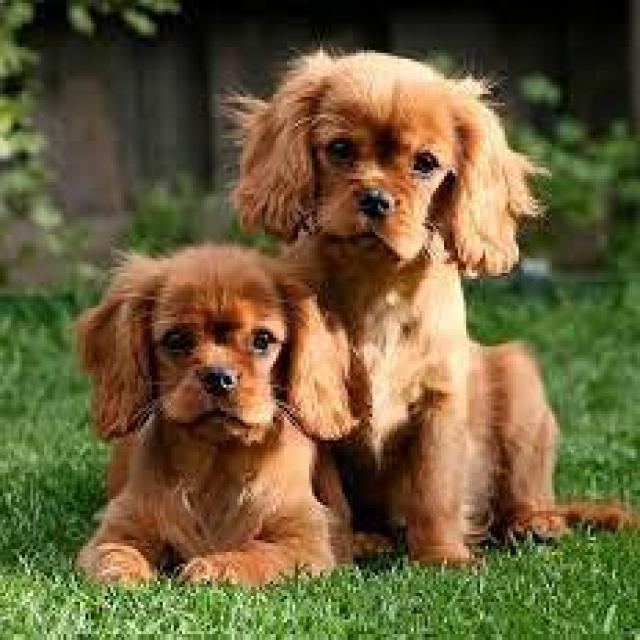Dog: (221, 33, 545, 287), (66, 230, 362, 458)
